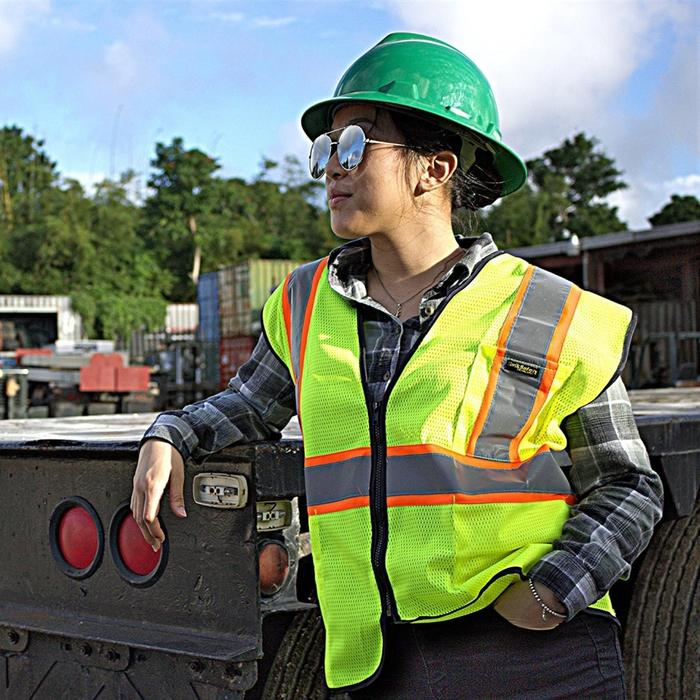Hard Hat: (309, 31, 529, 187)
High Viz: (281, 255, 564, 570)
